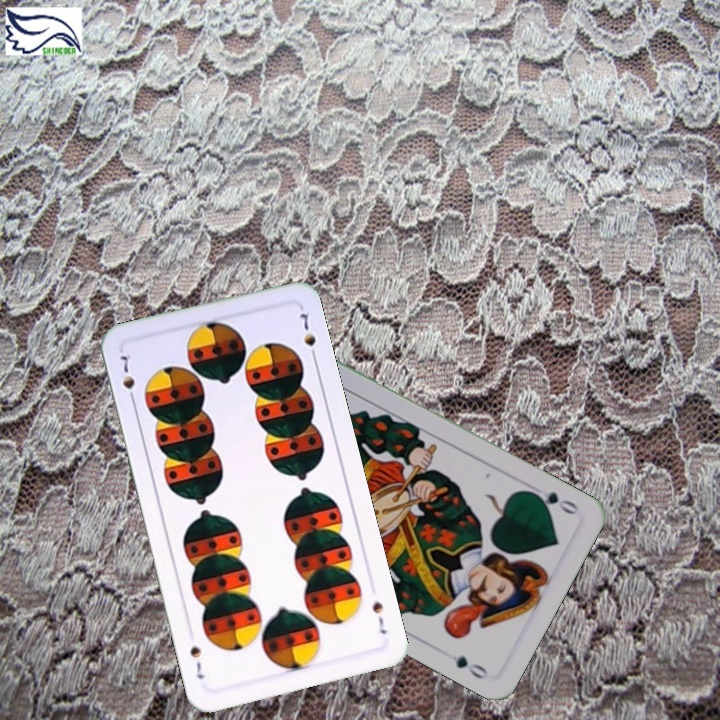GO: (525, 486, 581, 518)
S7: (117, 348, 138, 407), (368, 597, 390, 637)
